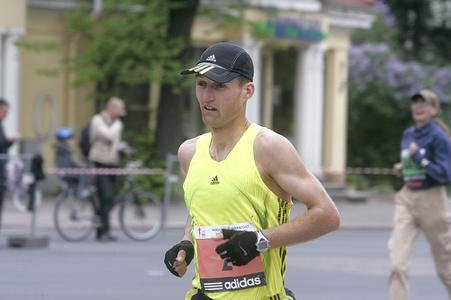person: (164, 43, 341, 300)
